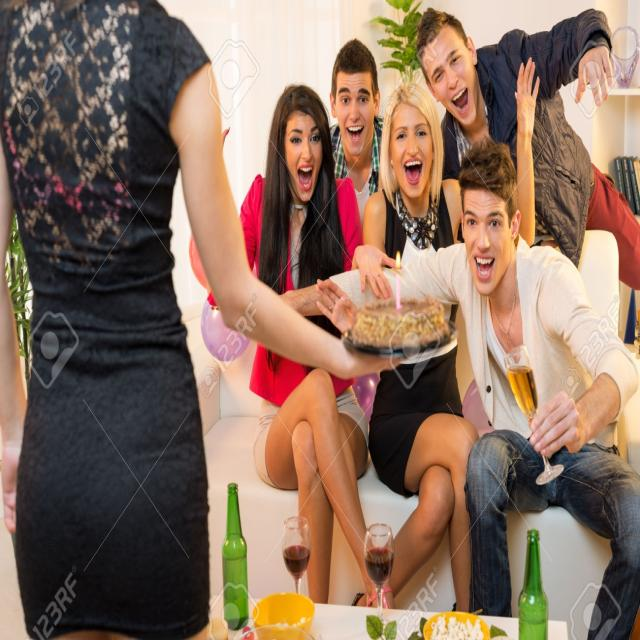body: (0, 0, 460, 639), (234, 132, 639, 639), (351, 54, 542, 616), (219, 83, 402, 612), (416, 7, 640, 292), (324, 35, 392, 234)
